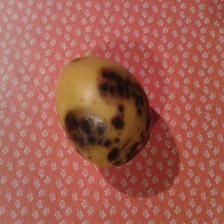Mango Rotten: (56, 51, 157, 165)
